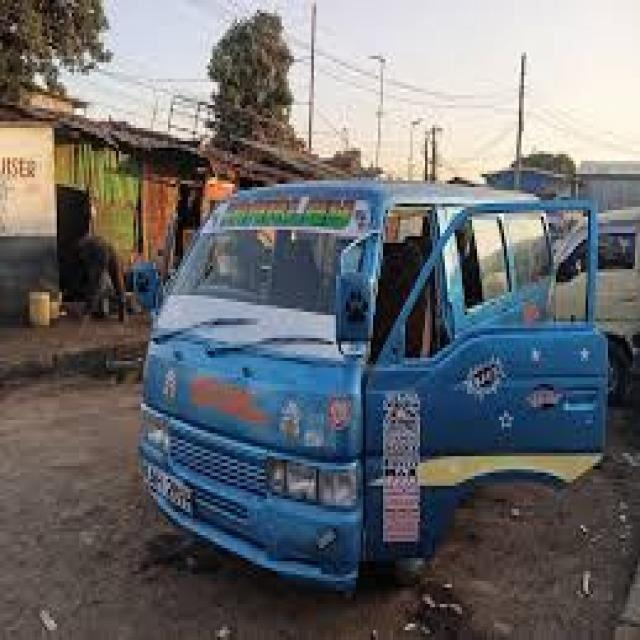matatu: (116, 68, 636, 600)
